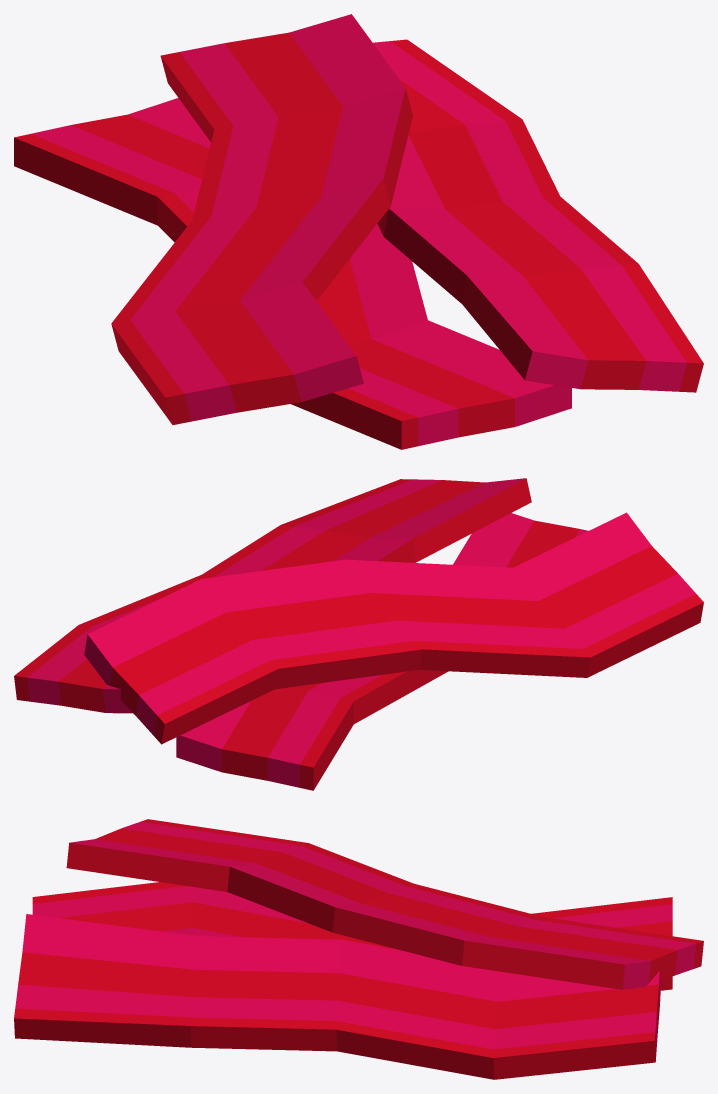
File: Bacon_01.fbx
3 renders of one model, top to bottom at view 1: azimuth 30°, elevation 25°; view 2: azimuth 150°, elevation 25°; view 3: azimuth 270°, elevation 25°, orthographic. The views are drawn at different scales.
Visible parts, largest first — view 1: Bacon_01; view 2: Bacon_01; view 3: Bacon_01.
Part boxes in pixels (bbox=[...]): Bacon_01: bbox=[14, 14, 703, 449]; Bacon_01: bbox=[14, 478, 703, 790]; Bacon_01: bbox=[14, 819, 703, 1079].
Size of the model in its own units: 7.35 by 1.37 by 9.39.
